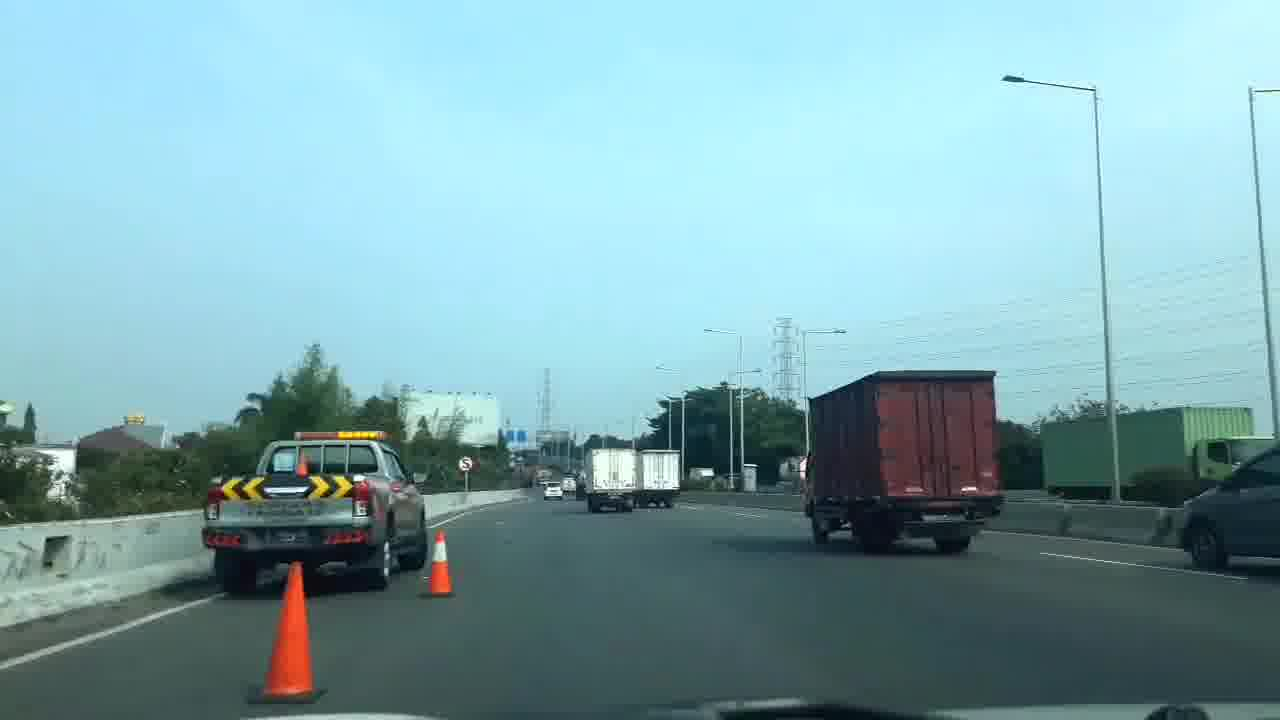plate_positive: (922, 513, 965, 523)
